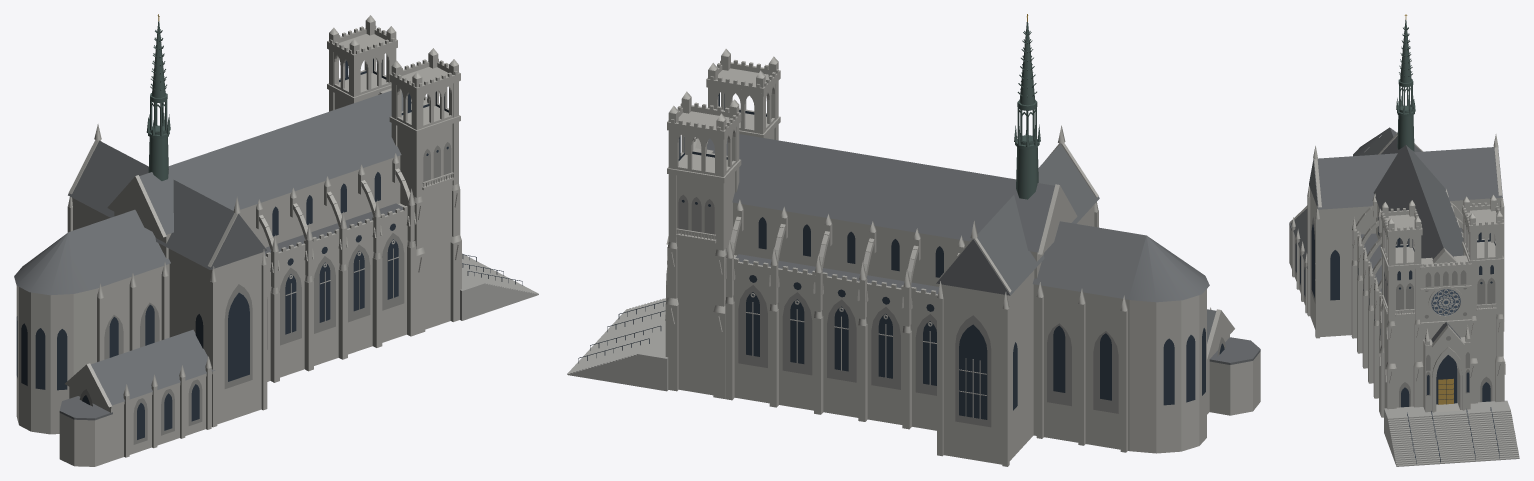
File: grace-cathedral-near.glb
3 renders of one model, left to right at view 1: azimuth 30°, elevation 25°; view 2: azimuth 150°, elevation 25°; view 3: azimuth 270°, elevation 25°, orthographic. The views are drawn at different scales.
Visible parts, largest first — view 1: grace-cathedral-0-stone, grace-cathedral-0-roof, grace-cathedral-0-glass, grace-cathedral-0-recess, grace-cathedral-0-concrete, grace-cathedral-0-spire; view 2: grace-cathedral-0-stone, grace-cathedral-0-roof, grace-cathedral-0-glass, grace-cathedral-0-recess, grace-cathedral-0-concrete, grace-cathedral-0-spire; view 3: grace-cathedral-0-stone, grace-cathedral-0-roof, grace-cathedral-0-concrete, grace-cathedral-0-glass, grace-cathedral-0-recess, grace-cathedral-0-spire, grace-cathedral-0-glow, grace-cathedral-0-brass.
Boxes of the visible parts, x1,y1,x2,y2 form: grace-cathedral-0-stone: (16,15,461,466); grace-cathedral-0-roof: (14,90,411,420); grace-cathedral-0-glass: (16,58,522,439); grace-cathedral-0-recess: (79,142,451,444); grace-cathedral-0-concrete: (460,253,538,320); grace-cathedral-0-spire: (146,21,170,180); grace-cathedral-0-stone: (665,49,1260,466); grace-cathedral-0-roof: (707,134,1260,364); grace-cathedral-0-glass: (578,93,1224,419); grace-cathedral-0-recess: (678,194,1225,427); grace-cathedral-0-concrete: (567,298,668,391); grace-cathedral-0-spire: (1014,21,1040,199); grace-cathedral-0-stone: (1289,133,1505,417); grace-cathedral-0-roof: (1289,127,1502,342); grace-cathedral-0-concrete: (1384,400,1519,466); grace-cathedral-0-glass: (1295,212,1499,463); grace-cathedral-0-recess: (1295,217,1495,407); grace-cathedral-0-spire: (1396,20,1415,151); grace-cathedral-0-glow: (1431,289,1460,315); grace-cathedral-0-brass: (1404,14,1453,404).
Size of the model in its own units: 113 by 75 by 51.77.
